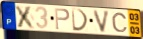3: (35, 6, 50, 31)
C: (111, 12, 129, 34)
D: (71, 8, 90, 32)
P: (54, 7, 71, 31)
V: (92, 9, 111, 34)
X: (14, 5, 36, 30)
